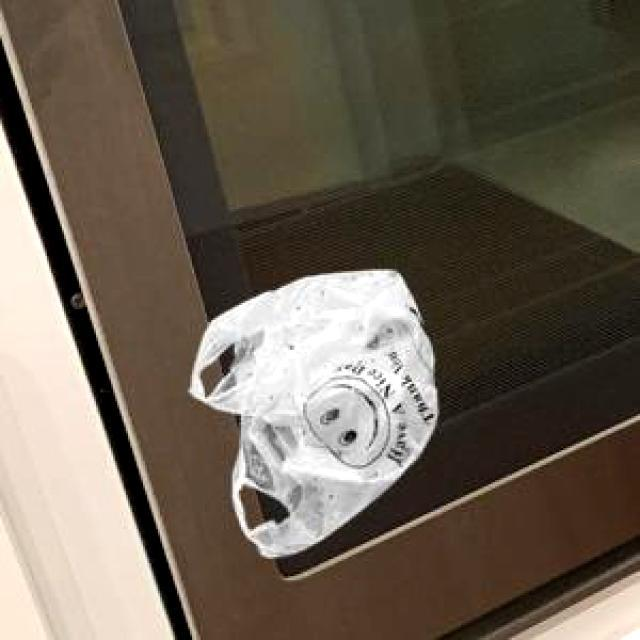Plastic_Bag: (186, 267, 434, 554)
